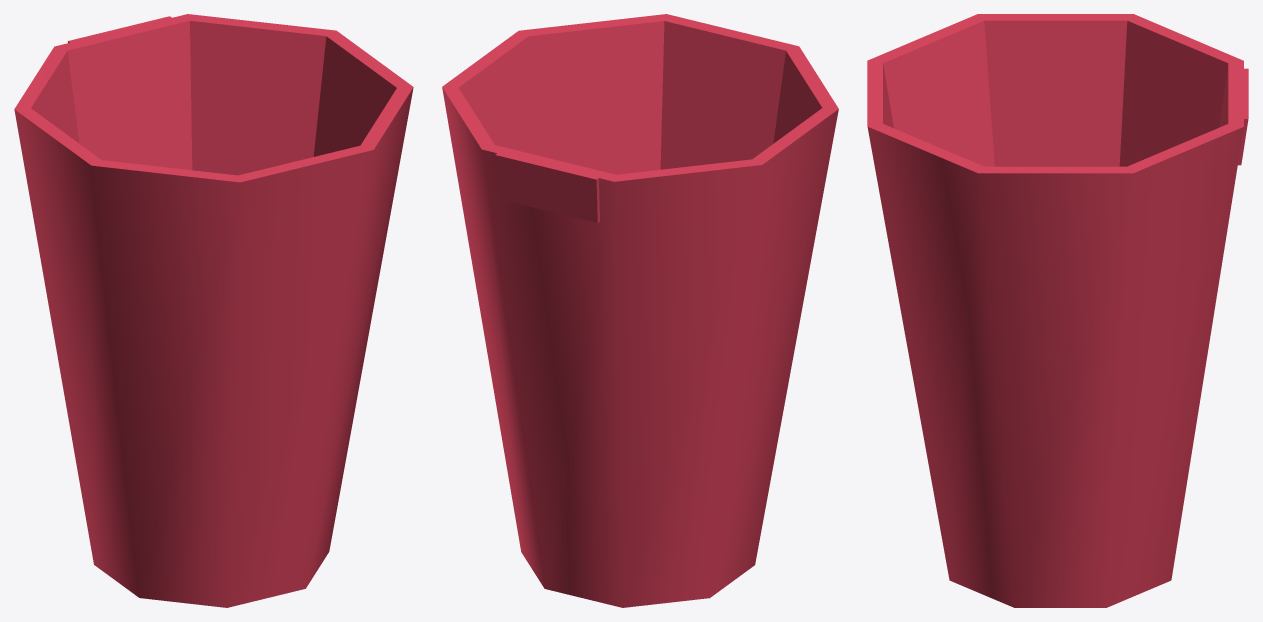
The model's file is Itr_Trashcan3_Body_04.FBX.
3 views of the same model, side by side, from view 1: azimuth 30°, elevation 25°; view 2: azimuth 150°, elevation 25°; view 3: azimuth 270°, elevation 25° (orthographic).
Parts seen in each view (by area): view 1: Itr_Trashcan3_Body_04; view 2: Itr_Trashcan3_Body_04; view 3: Itr_Trashcan3_Body_04.
Boxes of the visible parts, x1,y1,x2,y2 form: Itr_Trashcan3_Body_04: [14, 14, 413, 607]; Itr_Trashcan3_Body_04: [442, 14, 838, 607]; Itr_Trashcan3_Body_04: [867, 14, 1248, 607].
Bounding box in the file's own units: 13.72 × 18.79 × 13.88.
